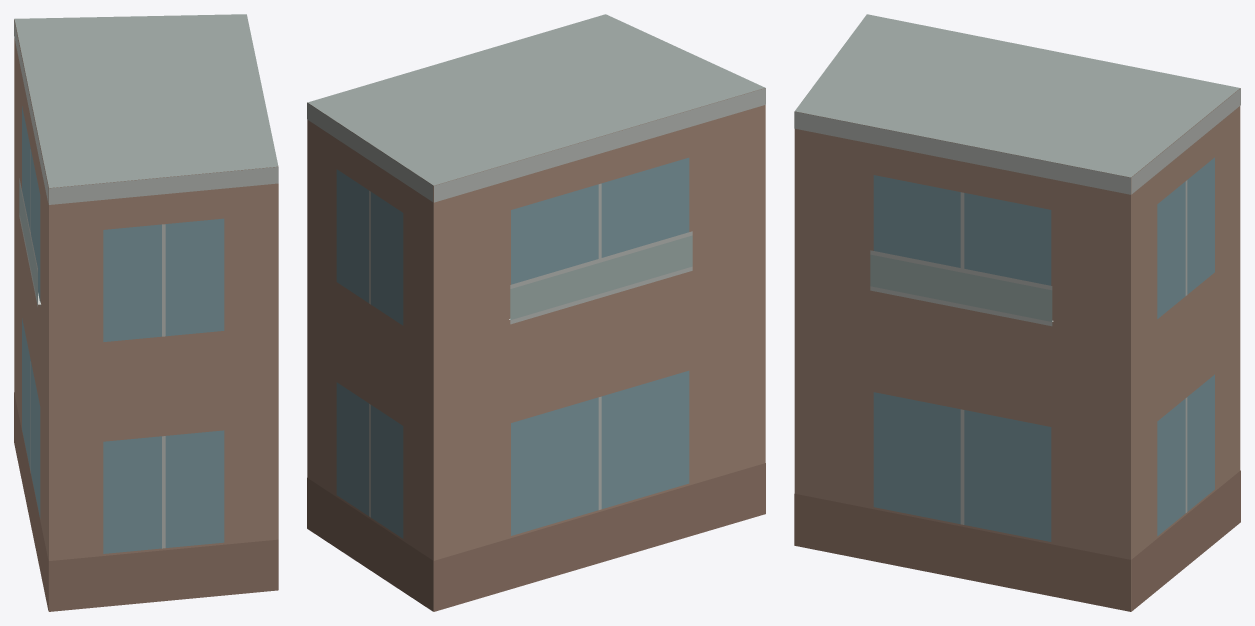
The model's file is survey-upis-32675631.glb.
The picture shows the model from 3 angles, left to right: view 1: azimuth 30°, elevation 25°; view 2: azimuth 150°, elevation 25°; view 3: azimuth 270°, elevation 25°; orthographic projection. The views are drawn at different scales.
Parts seen in each view (by area): view 1: survey-upis-32675631.tmp; view 2: survey-upis-32675631.tmp; view 3: survey-upis-32675631.tmp.
Part boxes in pixels (<box>): survey-upis-32675631.tmp: <box>14,14,278,611</box>; survey-upis-32675631.tmp: <box>307,14,765,611</box>; survey-upis-32675631.tmp: <box>794,14,1240,611</box>.
Bounding box in the file's own units: 4.93 × 6.1 × 5.69.
